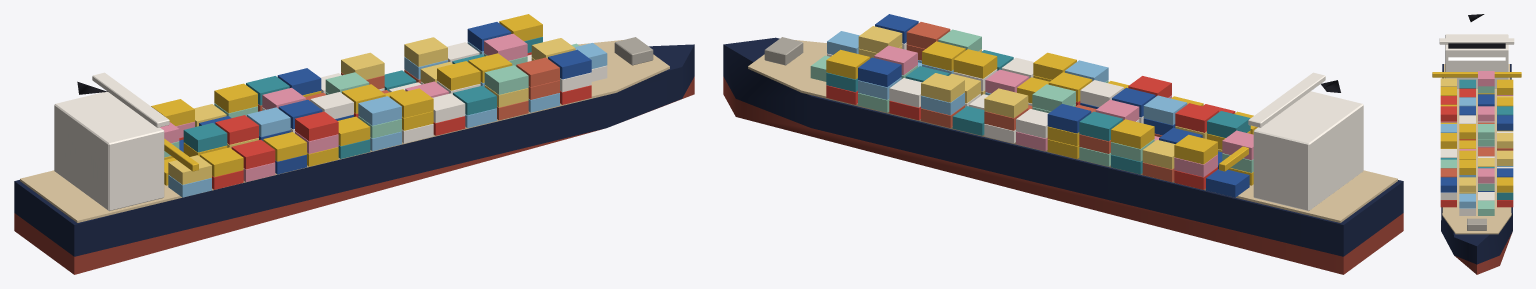
Rendered from cargo_ship.glb.
3 renders of one model, left to right at view 1: azimuth 30°, elevation 25°; view 2: azimuth 150°, elevation 25°; view 3: azimuth 270°, elevation 25°, orthographic. The views are drawn at different scales.
Parts seen in each view (by area): view 1: cargo_ship; view 2: cargo_ship; view 3: cargo_ship.
Part boxes in pixels (left/top/right/bottom): cargo_ship: left=14, top=14, right=694, bottom=274; cargo_ship: left=723, top=14, right=1403, bottom=274; cargo_ship: left=1432, top=14, right=1521, bottom=274.
Bounding box in the file's own units: 300 × 69 × 62.
Materials: 1 (1 with a texture image).
